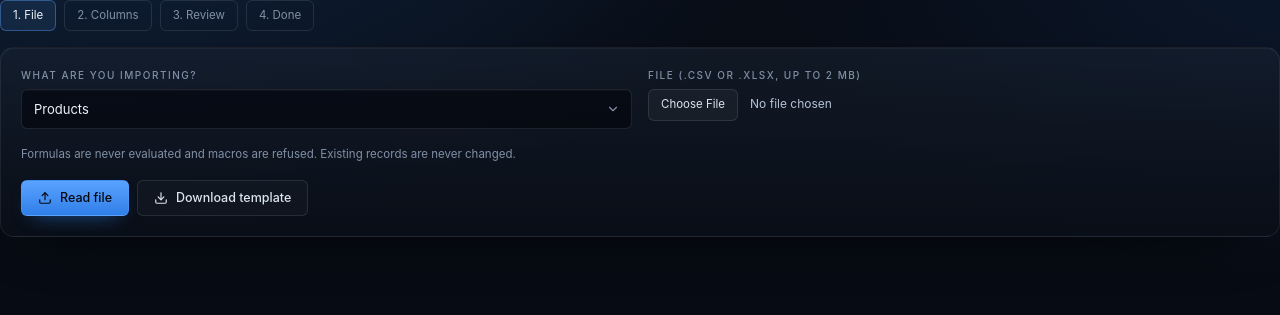
it: import wizard › asks for a file before reading anything
Click the button "Read file" at (75, 198), box [21,180,129,216]
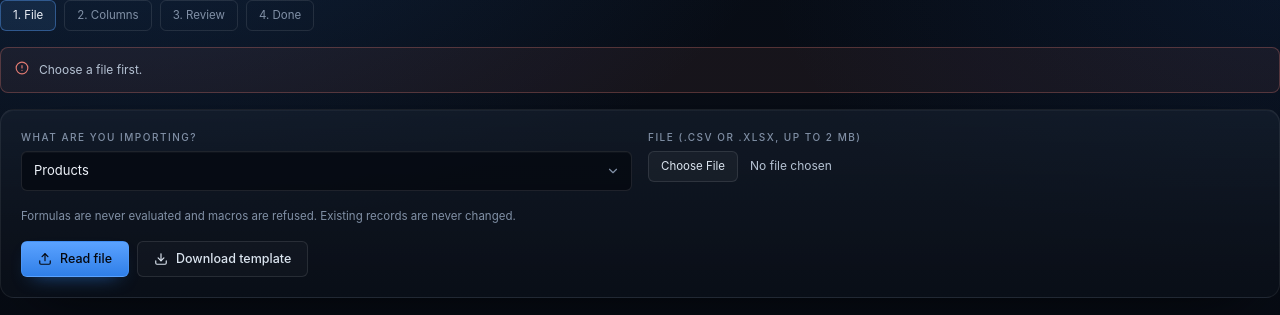
Expected: the message reads "Choose a file first.", [39,62,142,77]
